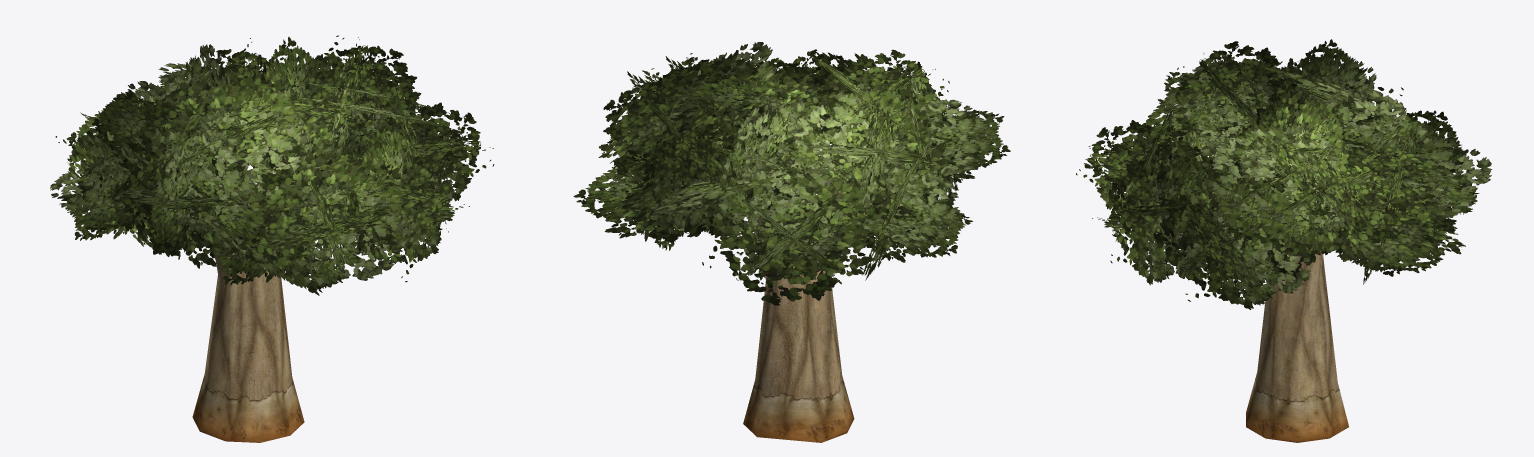
Rendered from core_decd_vweilu_l1.fbx.
The picture shows the model from 3 angles, left to right: view 1: azimuth 30°, elevation 25°; view 2: azimuth 150°, elevation 25°; view 3: azimuth 270°, elevation 25°; orthographic projection. The views are drawn at different scales.
Visible parts, largest first — view 1: mesh_node; view 2: mesh_node; view 3: mesh_node.
Boxes of the visible parts, x1,y1,x2,y2 form: mesh_node: (50,35,494,442); mesh_node: (573,42,1010,442); mesh_node: (1076,39,1492,442).
Bounding box in the file's own units: 19.1 × 16.5 × 18.85.
